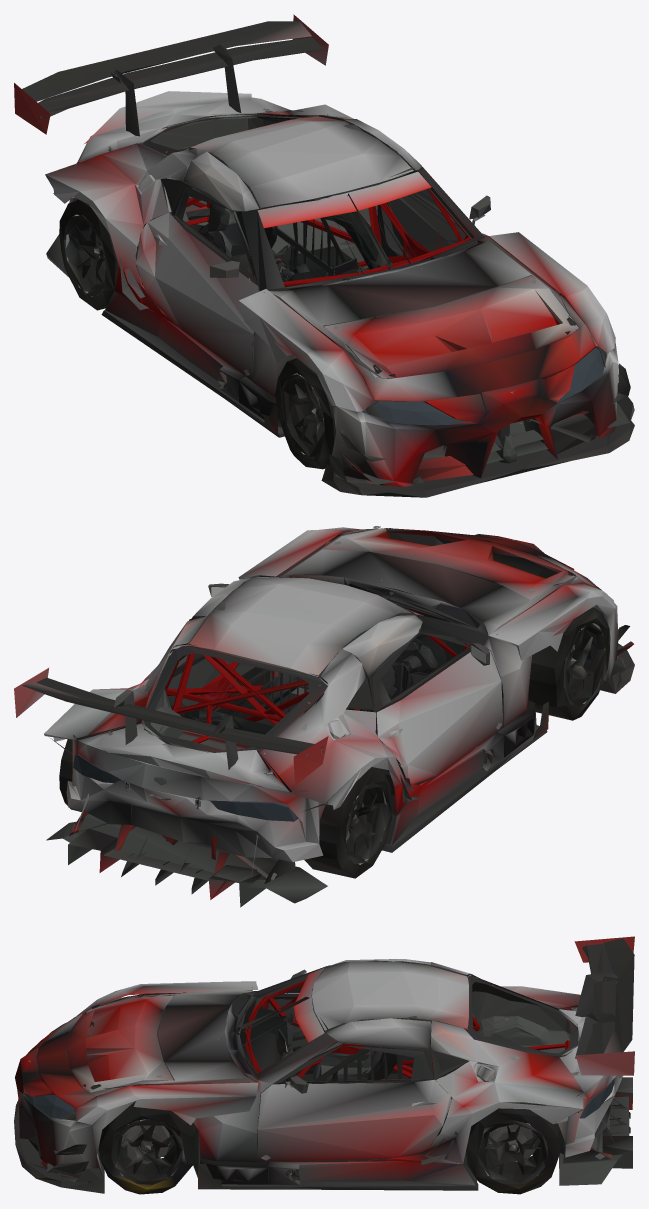
Rendered from supra.lod.glb.
3 views of the same model, one above another, from view 1: azimuth 30°, elevation 25°; view 2: azimuth 150°, elevation 25°; view 3: azimuth 270°, elevation 25° (orthographic). The views are drawn at different scales.
Parts seen in each view (by area): view 1: lod_body, lod_glass; view 2: lod_body, lod_glass; view 3: lod_body, lod_glass.
Boxes of the visible parts, bbox=[...] form: lod_body: bbox=[14, 14, 634, 497]; lod_glass: bbox=[178, 115, 606, 425]; lod_body: bbox=[14, 526, 634, 907]; lod_glass: bbox=[73, 573, 598, 841]; lod_body: bbox=[14, 936, 634, 1194]; lod_glass: bbox=[24, 986, 614, 1120].
Bounding box in the file's own units: 2.06 × 1.2 × 4.46.
